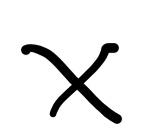mult: (21, 43, 121, 124)
